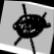not correct: (7, 1, 54, 54)
